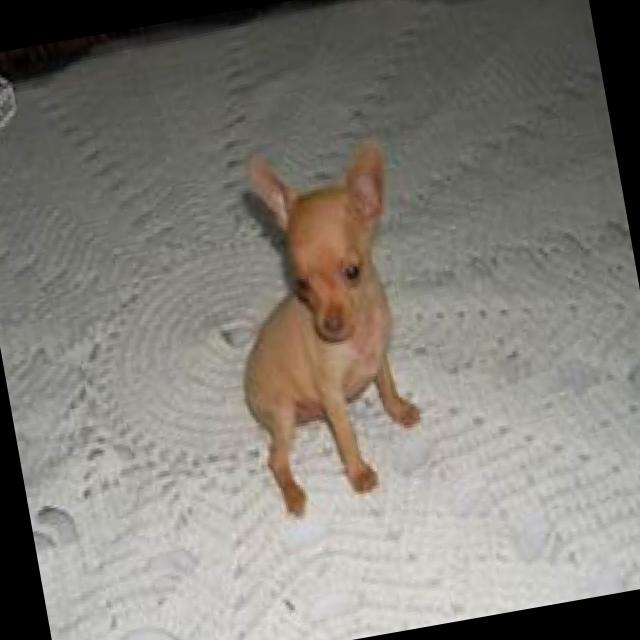animal: (203, 128, 443, 522)
